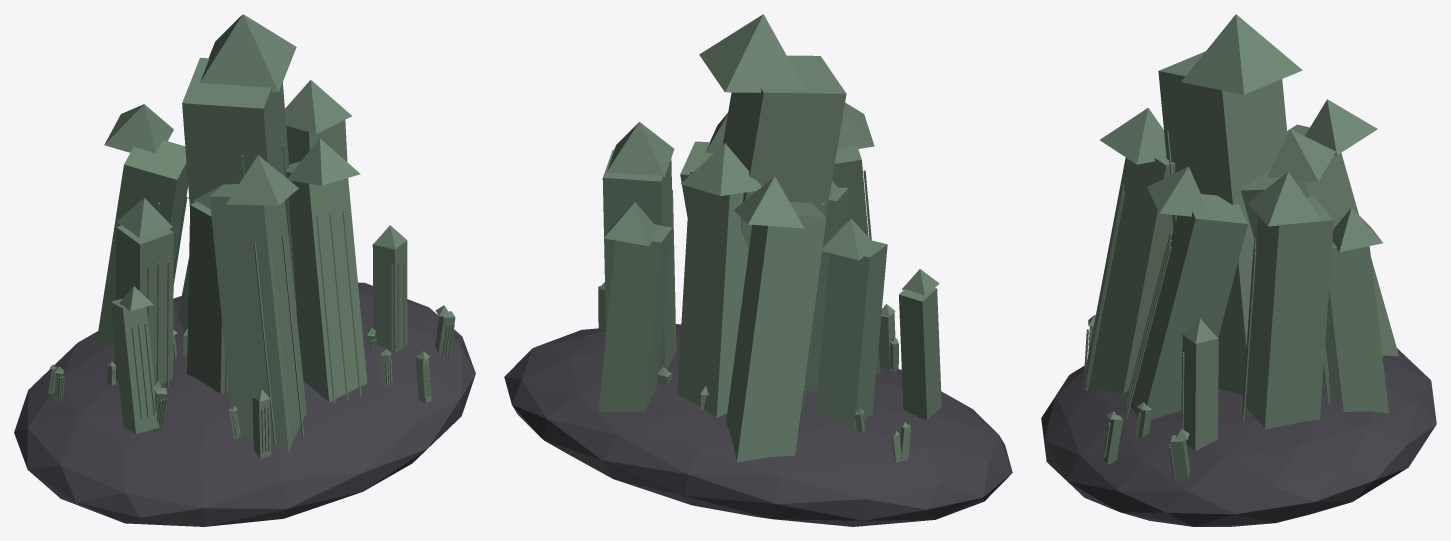
File: thortveitite.glb
3 views of the same model, side by side, from view 1: azimuth 30°, elevation 25°; view 2: azimuth 150°, elevation 25°; view 3: azimuth 270°, elevation 25° (orthographic). The views are drawn at different scales.
Parts seen in each view (by area): view 1: Thortveitite; view 2: Thortveitite; view 3: Thortveitite.
Boxes of the visible parts, <box> form: Thortveitite: <box>14,14,475,526</box>; Thortveitite: <box>504,14,1012,526</box>; Thortveitite: <box>1041,14,1436,526</box>.
Size of the model in its own units: 3.96 by 3.92 by 3.03.
